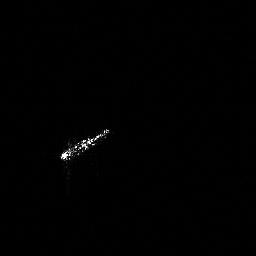ship: (60, 127, 110, 160)
